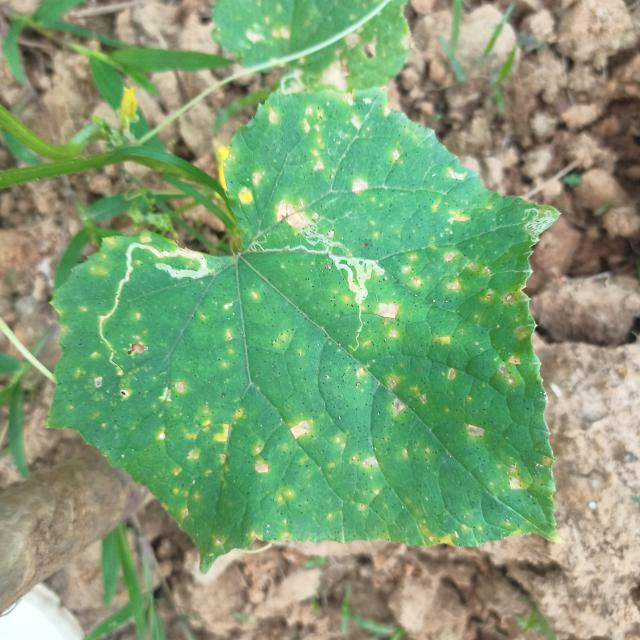disease_cucumber: (107, 100, 537, 549)
